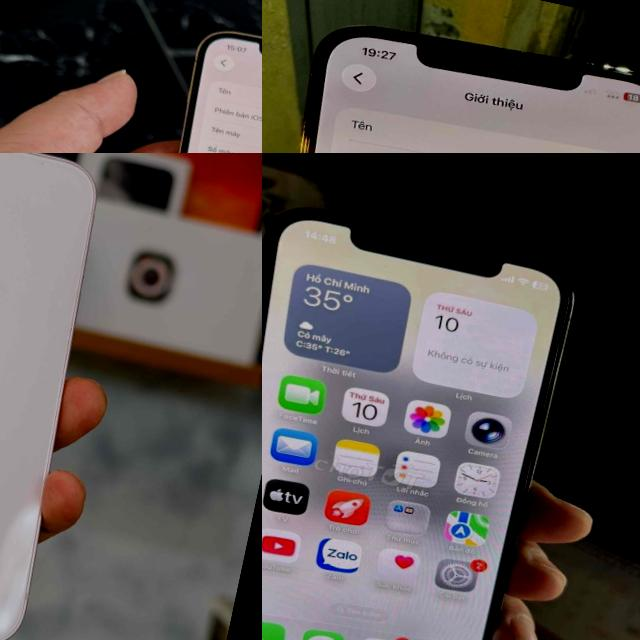gen_12_13: (262, 187, 600, 640), (0, 153, 137, 640), (262, 1, 640, 153), (123, 16, 262, 153)
